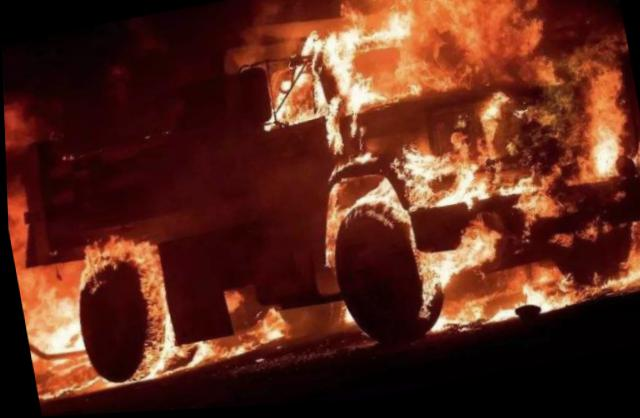fire: (242, 0, 639, 360), (2, 61, 285, 404)
